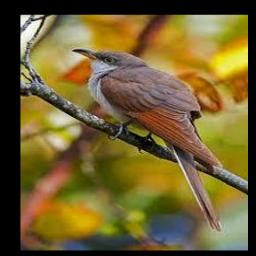Cuckoo: (72, 48, 223, 231)
